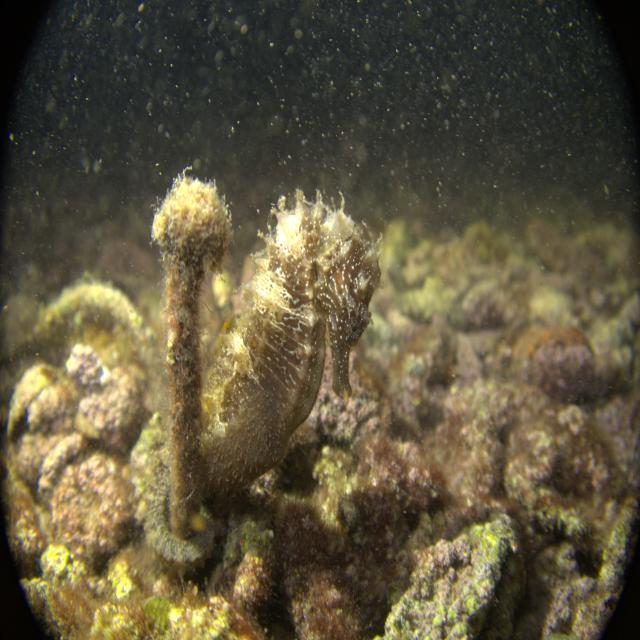Guttu: (312, 216, 382, 410)
